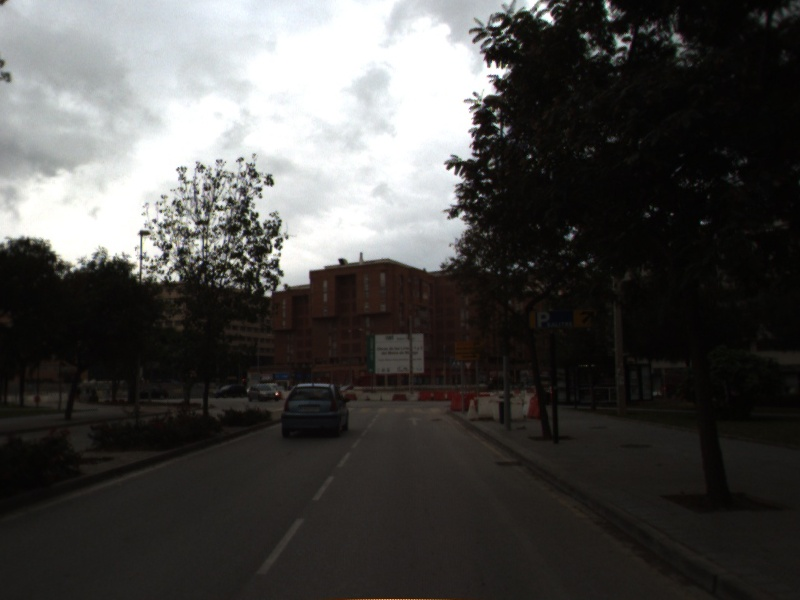STRAIGHT: (404, 414, 424, 427)
